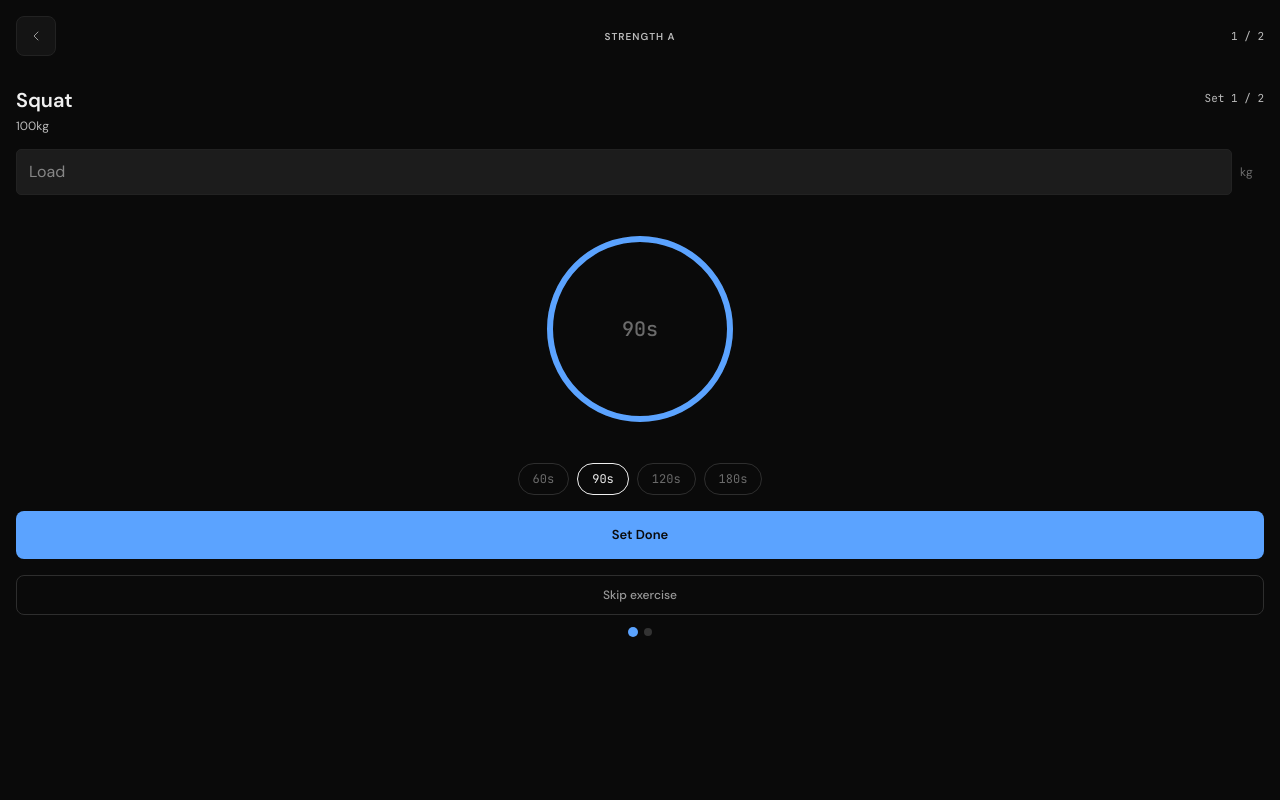
it: WorkoutMode — set flow › "Set Done" transitions to resting phase
Click the button "Set Done".
click(640, 535)  # box [16, 511, 1264, 558]
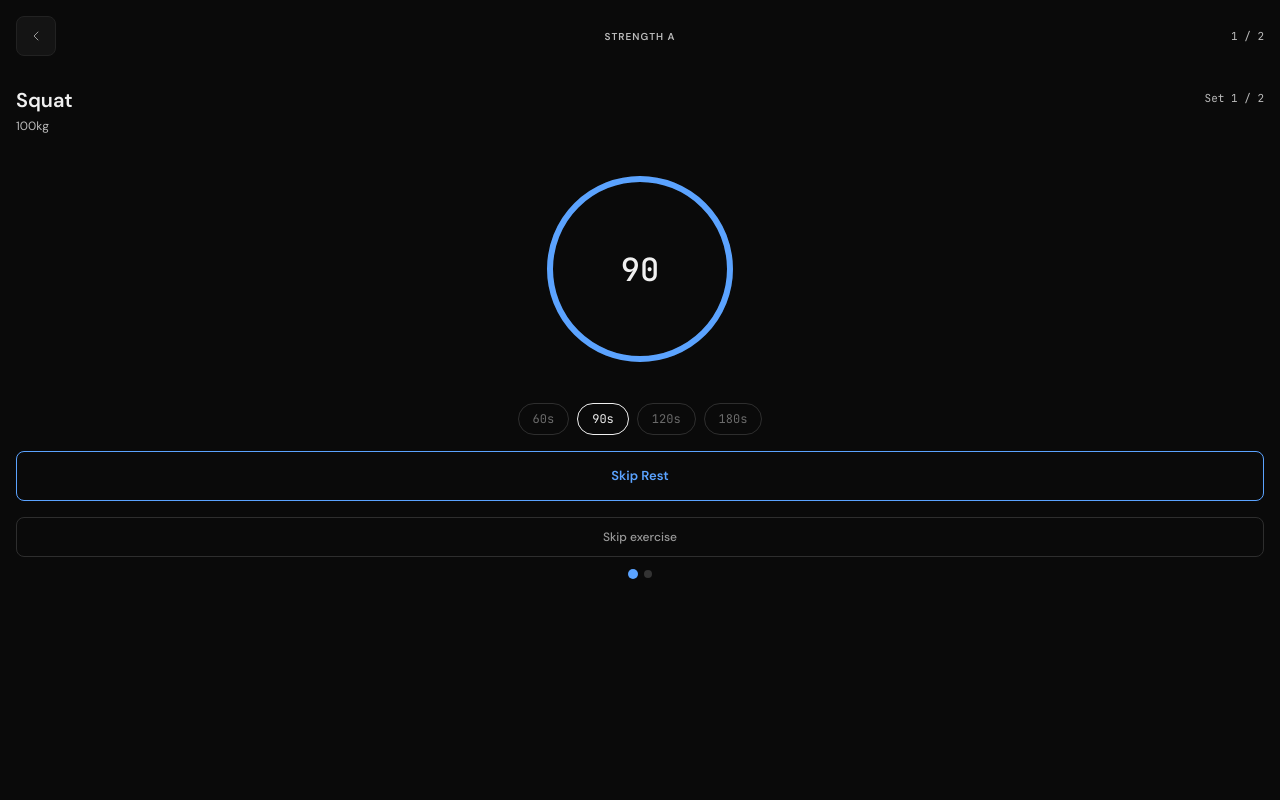
Check: the button "Skip Rest" is shown, box [16, 451, 1264, 500]
Check: the field with placeholder "Load" is gone
